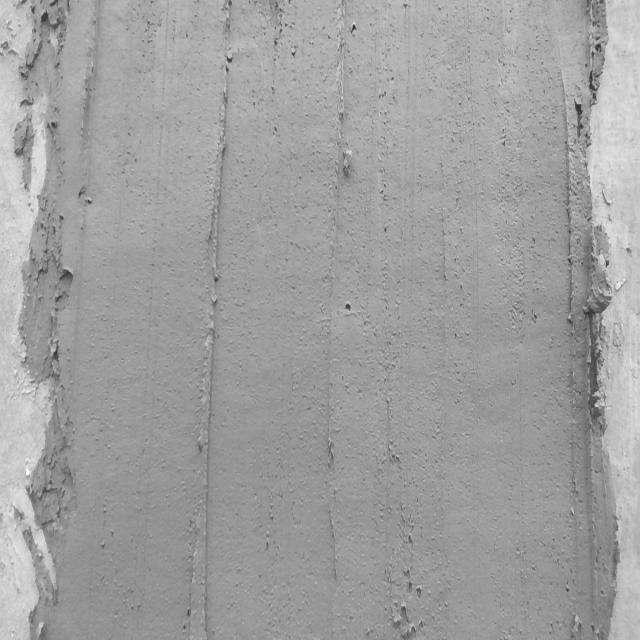trowels marks: (188, 5, 236, 640), (566, 75, 579, 521), (333, 2, 356, 203)
